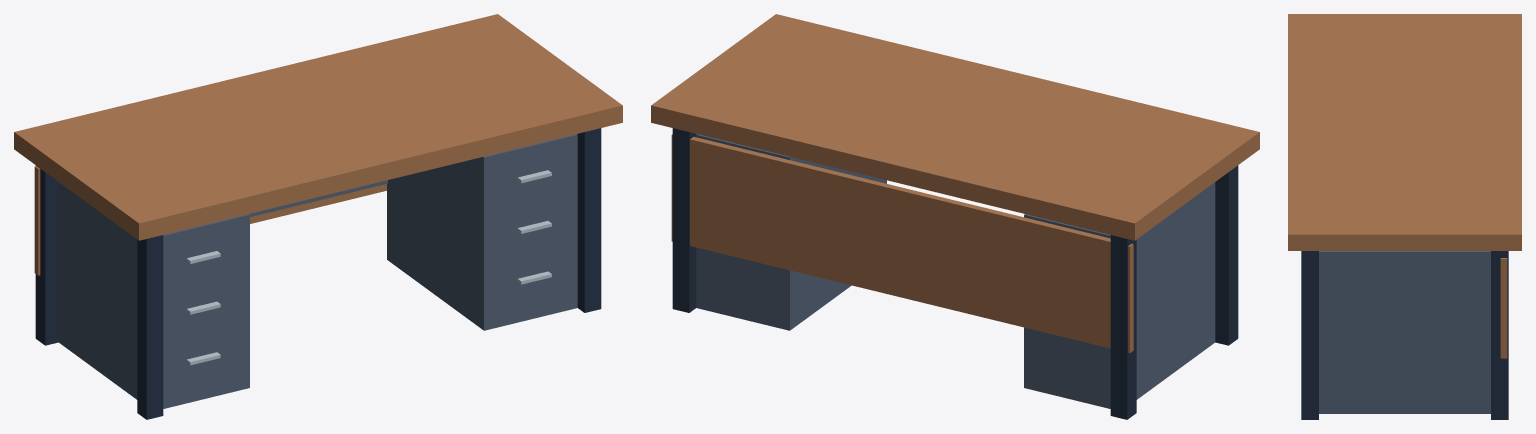
File: officeExecutiveDesk.glb
3 views of the same model, side by side, from view 1: azimuth 30°, elevation 25°; view 2: azimuth 150°, elevation 25°; view 3: azimuth 270°, elevation 25° (orthographic). The views are drawn at different scales.
Bounding box in the file's own units: 1.9 × 0.77 × 0.85.
